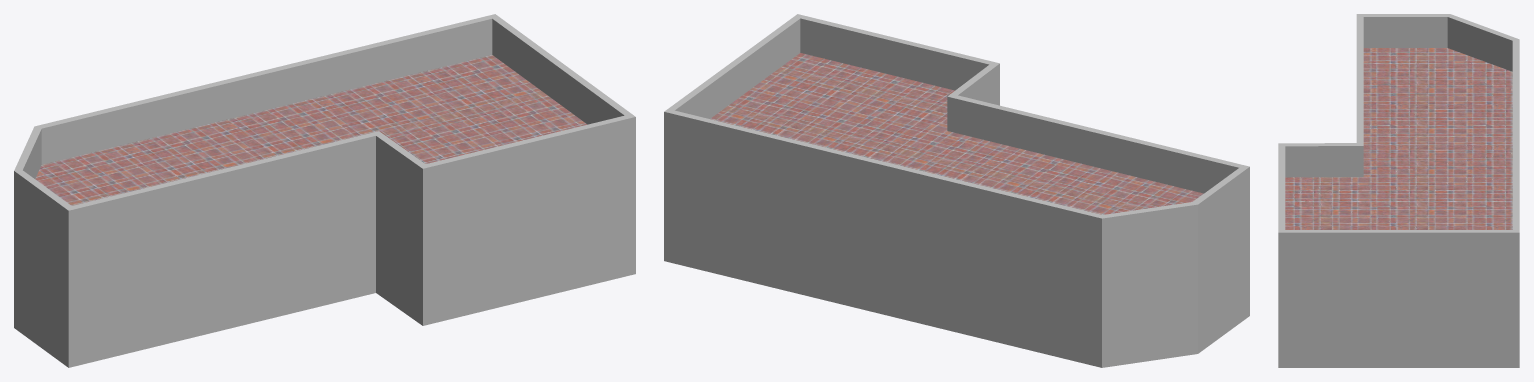
Rendered from hirise_parts03_1f.fbx.
The picture shows the model from 3 angles, left to right: view 1: azimuth 30°, elevation 25°; view 2: azimuth 150°, elevation 25°; view 3: azimuth 270°, elevation 25°; orthographic projection. The views are drawn at different scales.
Parts seen in each view (by area): view 1: hirise_parts03_1f; view 2: hirise_parts03_1f; view 3: hirise_parts03_1f.
Boxes of the visible parts, x1=… form: hirise_parts03_1f: x1=14, y1=14, x2=635, y2=367; hirise_parts03_1f: x1=664, y1=14, x2=1249, y2=367; hirise_parts03_1f: x1=1278, y1=14, x2=1519, y2=367.
Bounding box in the file's own units: 19.92 × 5.74 × 9.3.
